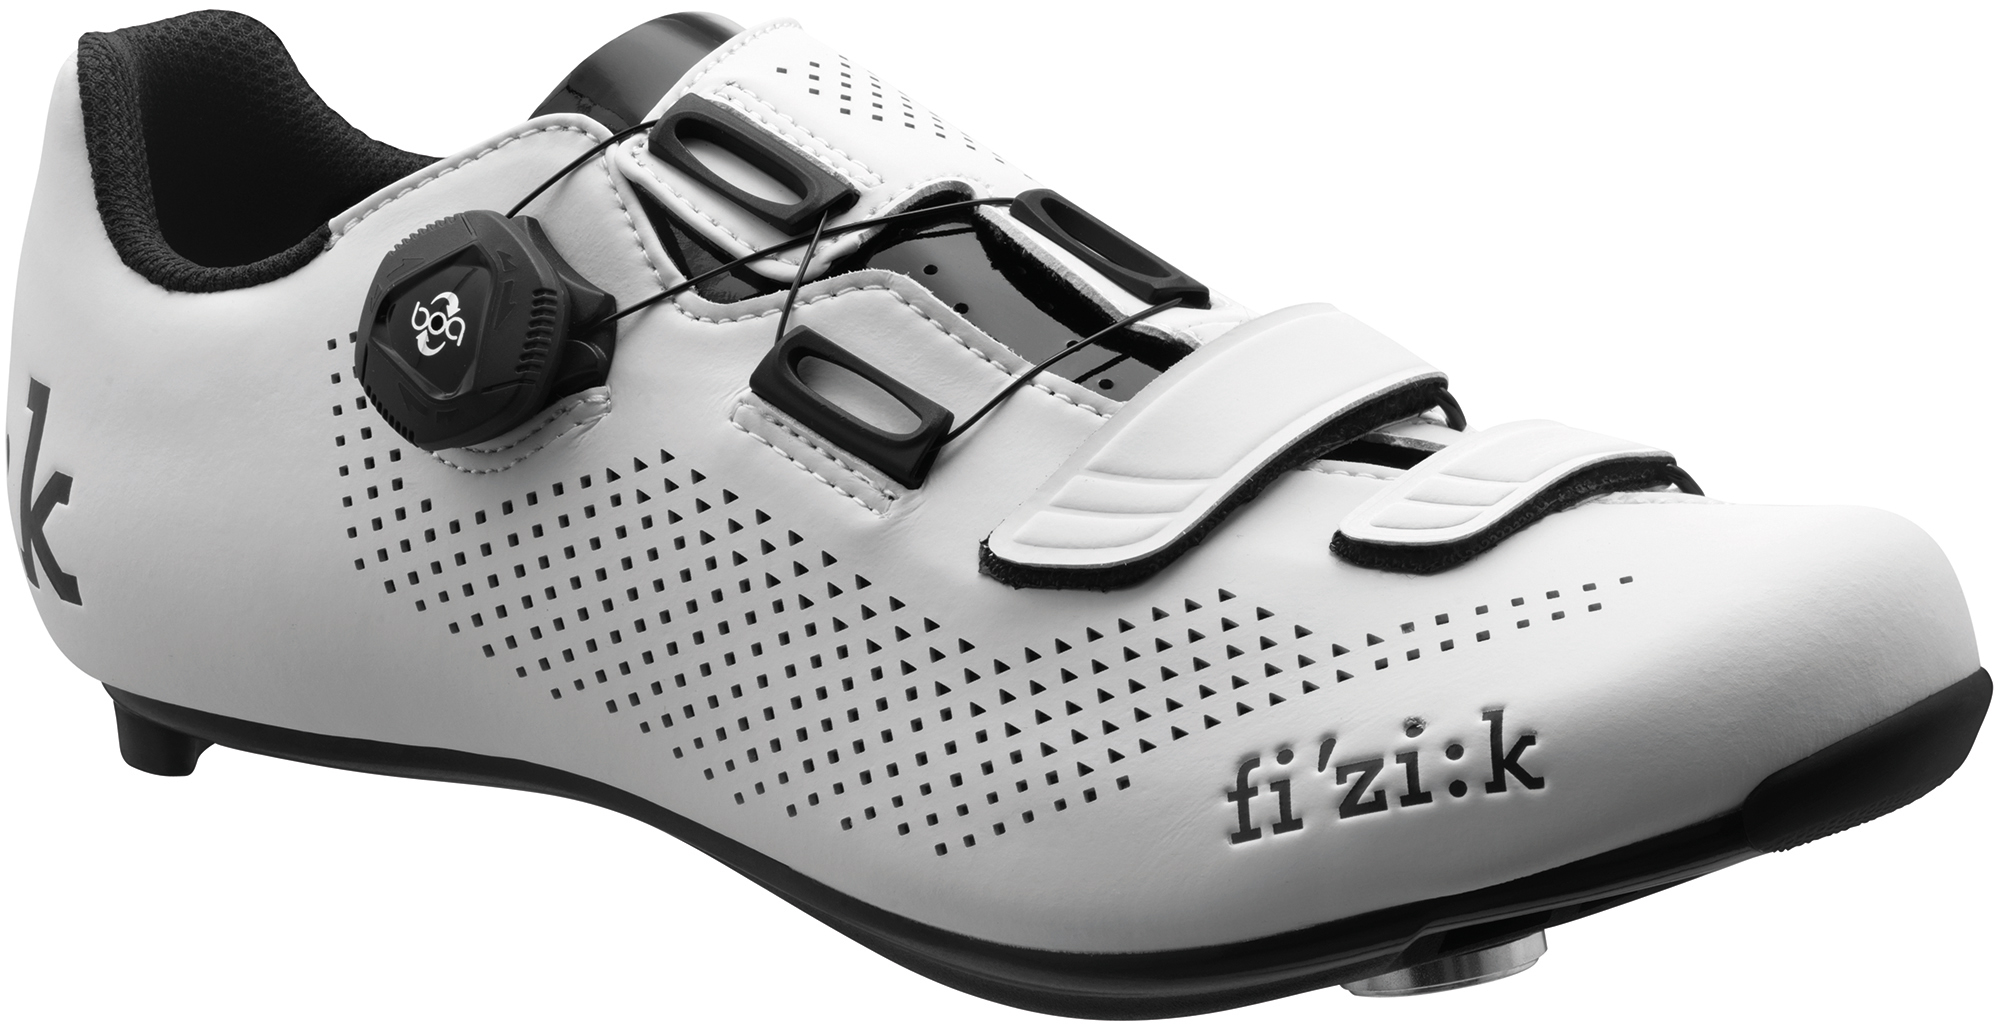shoe: (20, 41, 2000, 1008)
